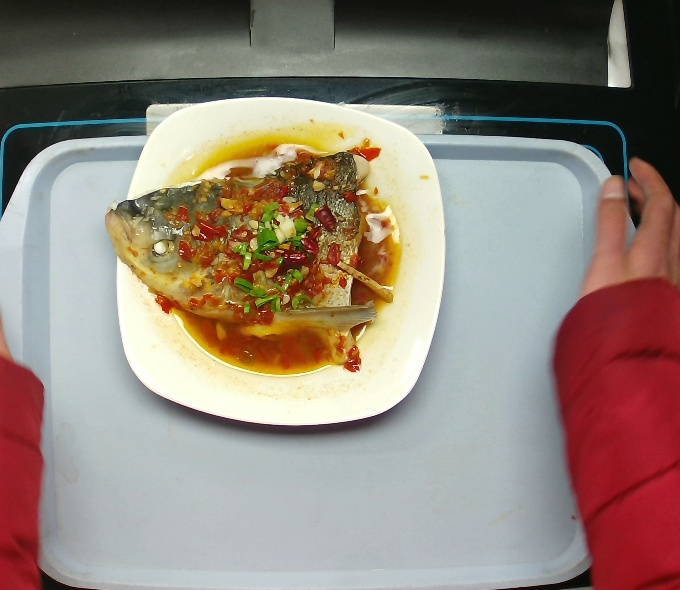wcq-DuoJiaoYuTou: (106, 128, 402, 377)
